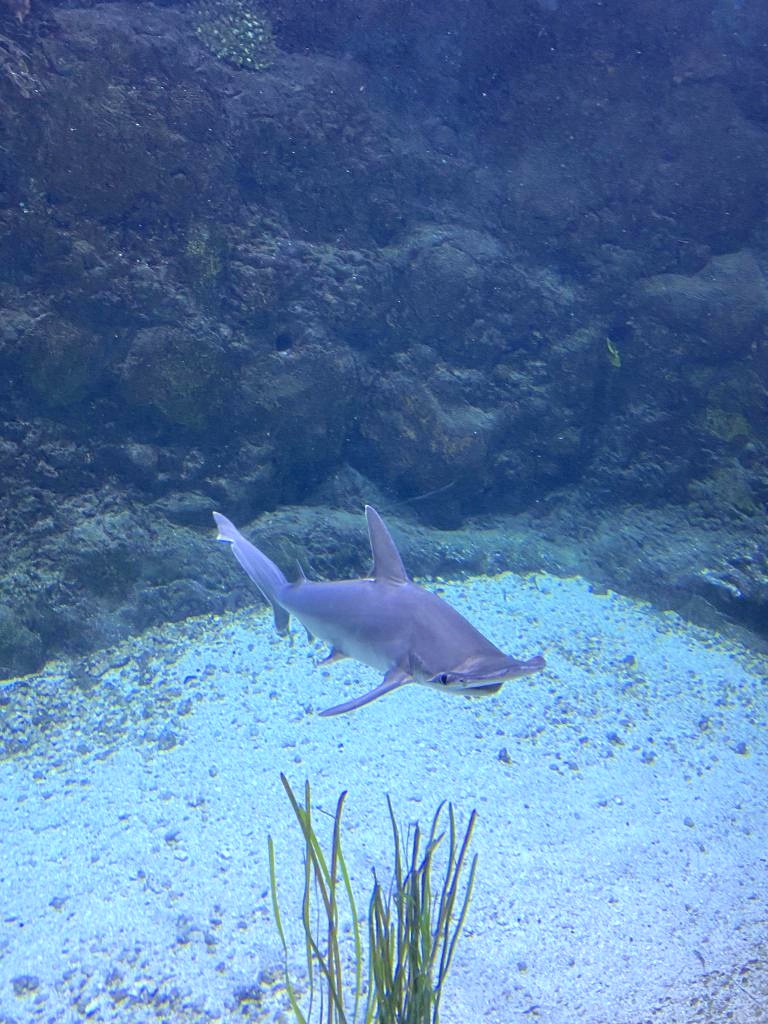shark: (214, 504, 546, 716)
